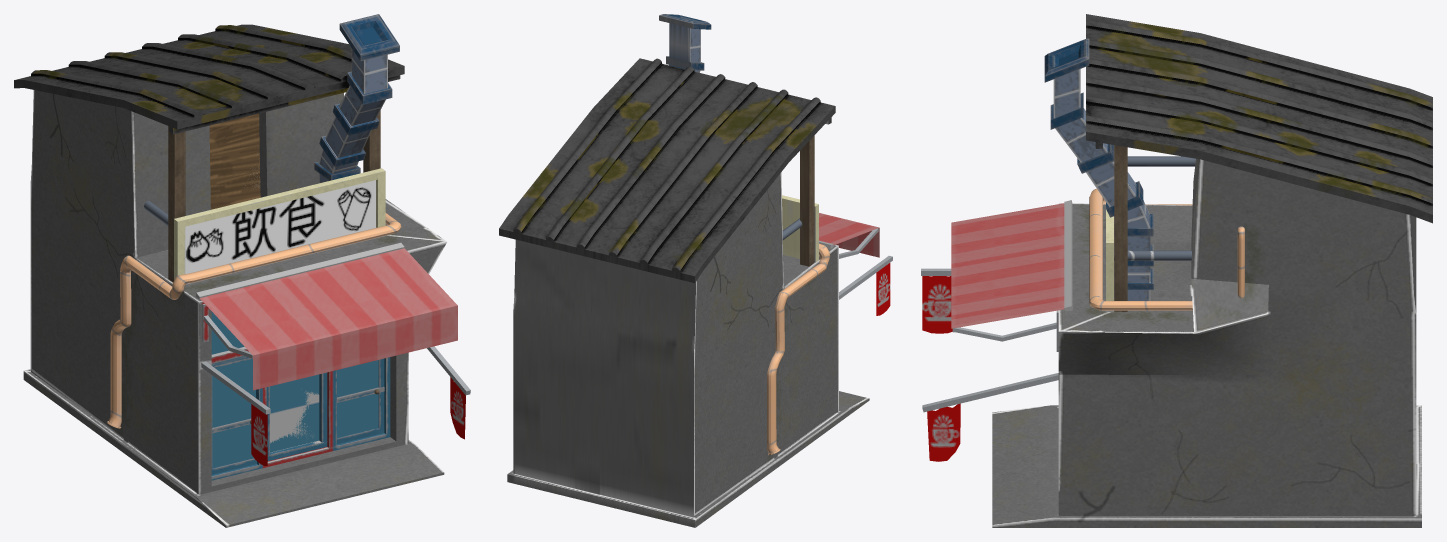
The model's file is tokyo-shop-a.glb.
3 renders of one model, left to right at view 1: azimuth 30°, elevation 25°; view 2: azimuth 150°, elevation 25°; view 3: azimuth 270°, elevation 25°, orthographic. The views are drawn at different scales.
Parts seen in each view (by area): view 1: Building; view 2: Building; view 3: Building.
Part boxes in pixels (x1,y1,x2,y2): Building: [14, 14, 470, 527]; Building: [499, 14, 892, 527]; Building: [921, 14, 1432, 527].
Bounding box in the file's own units: 248 × 395 × 398.
1 material, 1 textured.
